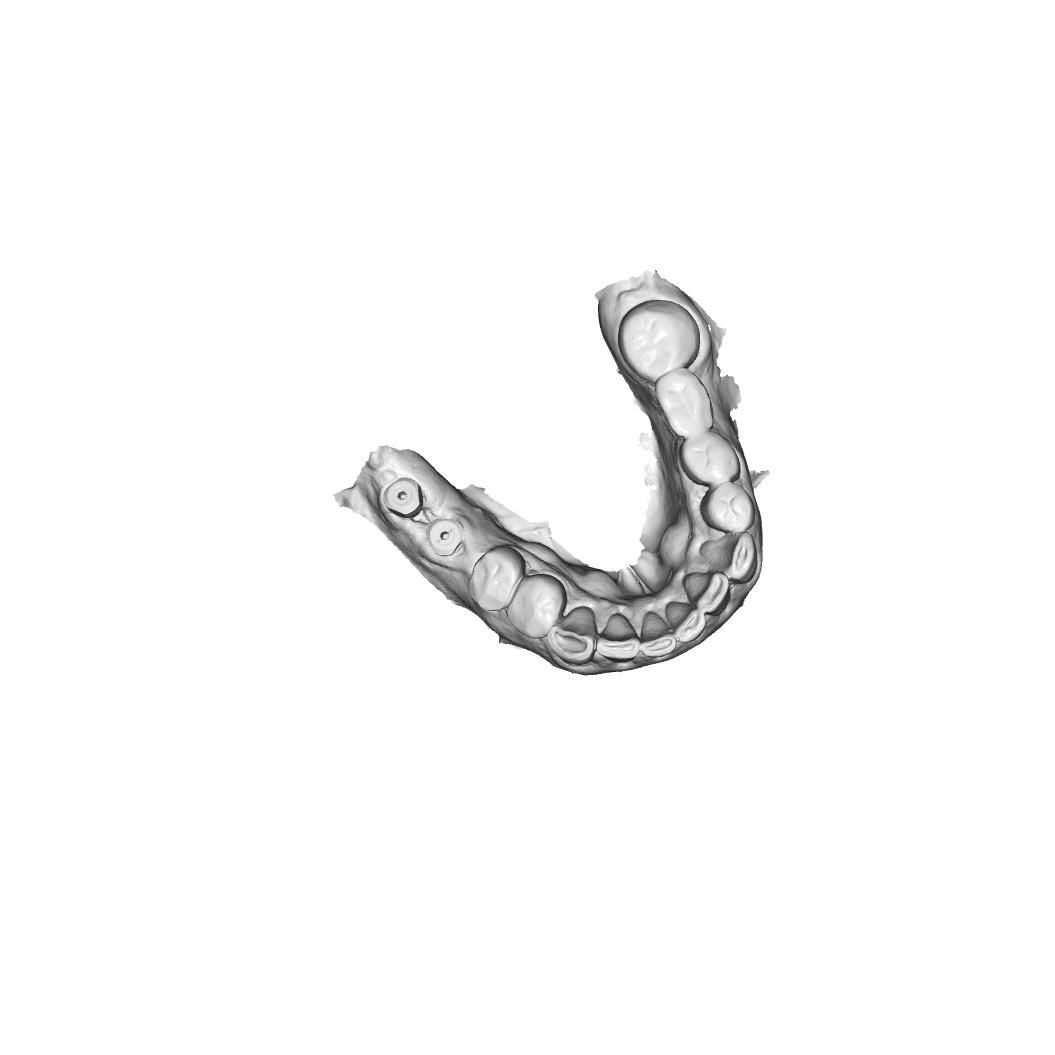canine: (701, 530, 758, 583), (551, 606, 596, 665)
implant: (378, 476, 427, 520)
implant_minus: (423, 514, 468, 559)
incisor: (596, 612, 640, 663), (685, 570, 731, 615), (641, 609, 677, 660), (668, 600, 709, 644)
molar: (620, 300, 703, 378), (656, 367, 716, 434)
premolar: (465, 547, 527, 614), (506, 576, 561, 636), (684, 430, 740, 483), (705, 484, 757, 525)
